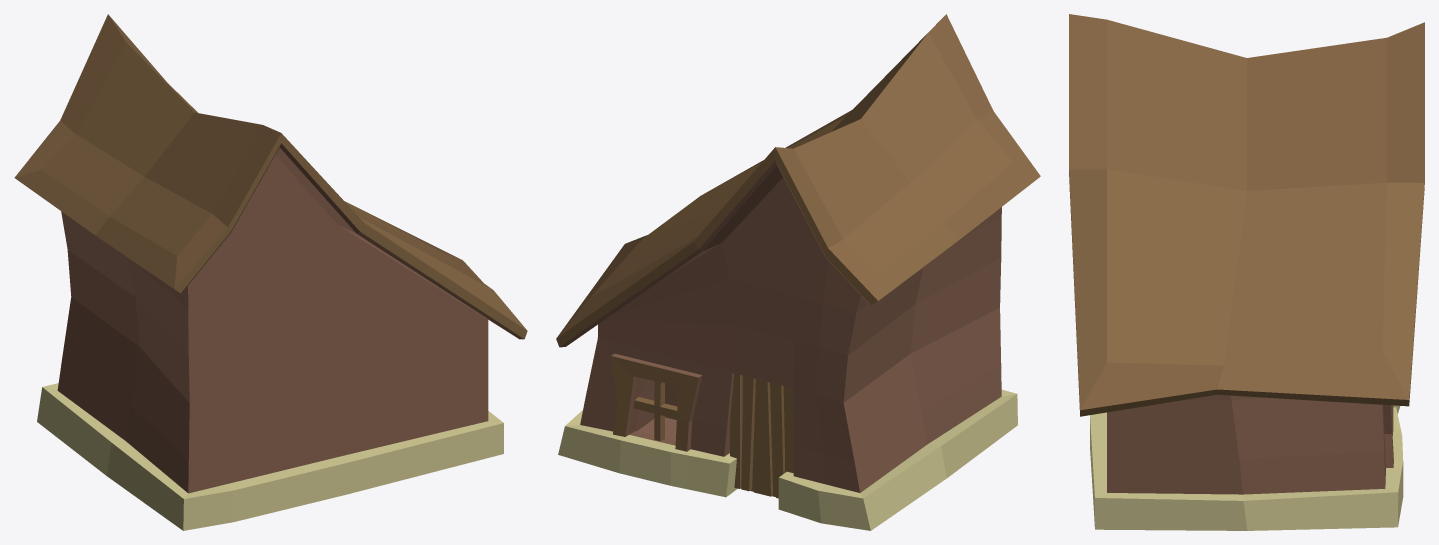
The model's file is Shack.glb.
The picture shows the model from 3 angles, left to right: view 1: azimuth 30°, elevation 25°; view 2: azimuth 150°, elevation 25°; view 3: azimuth 270°, elevation 25°; orthographic projection. The views are drawn at different scales.
Visible parts, largest first — view 1: Shack; view 2: Shack; view 3: Shack.
Boxes of the visible parts, <box> form: Shack: <box>14,14,527,530</box>; Shack: <box>556,14,1040,530</box>; Shack: <box>1069,14,1424,530</box>.
Size of the model in its own units: 7.96 by 8.32 by 6.73.
